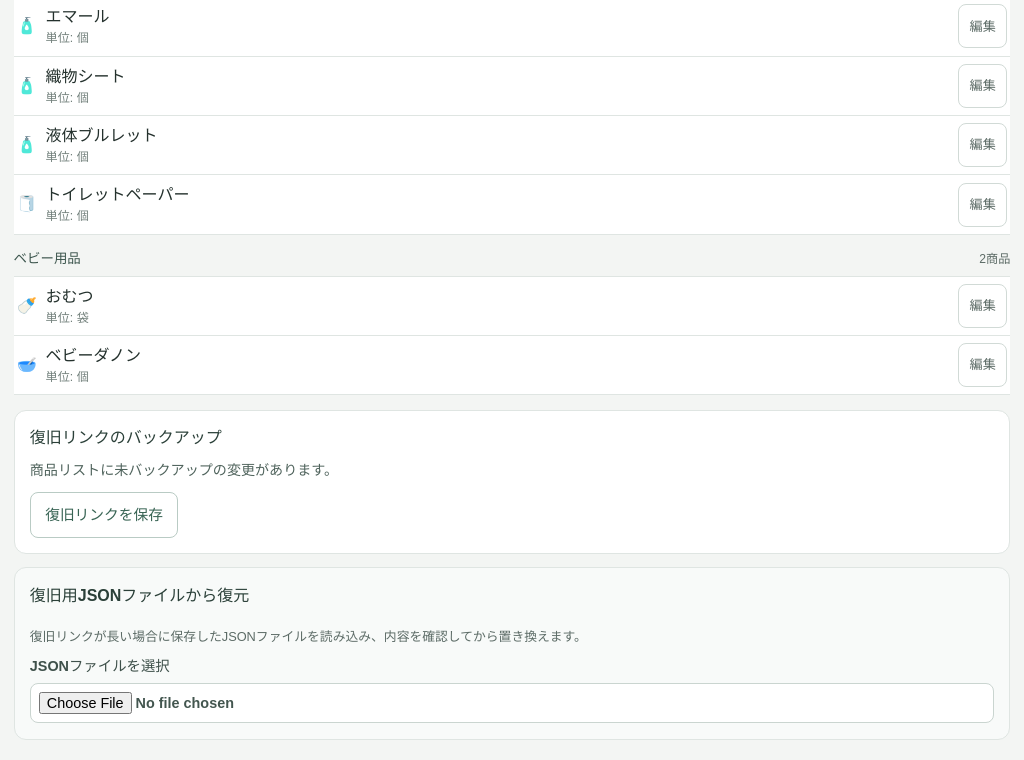
Scenario: ProductCatalogPage › records a backup receipt only after the user confirms saving the link
The image size is (1024, 760).
(page scrolled)
Step 1. Click the button "復旧リンクを保存" → (104, 515), box [30,492,178,538]
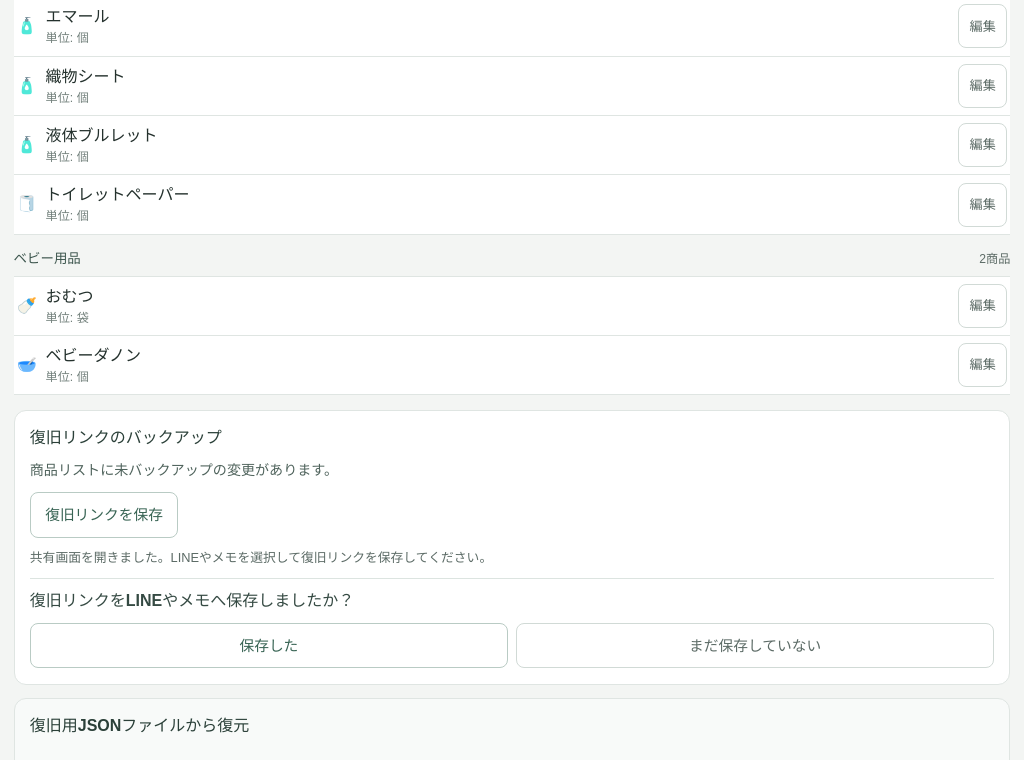
Step 2. Click the button "保存した" → (269, 646), box [30,623,508,668]
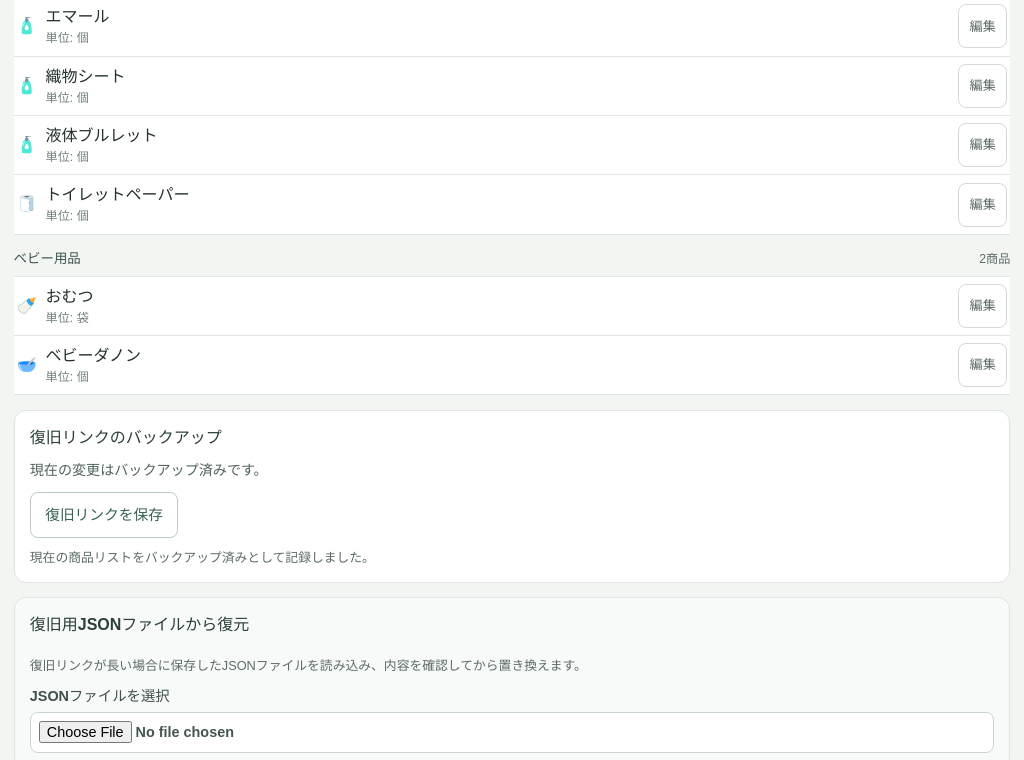
Check: the text "現在の変更はバックアップ済みです。" is shown, box [30,462,268,478]
